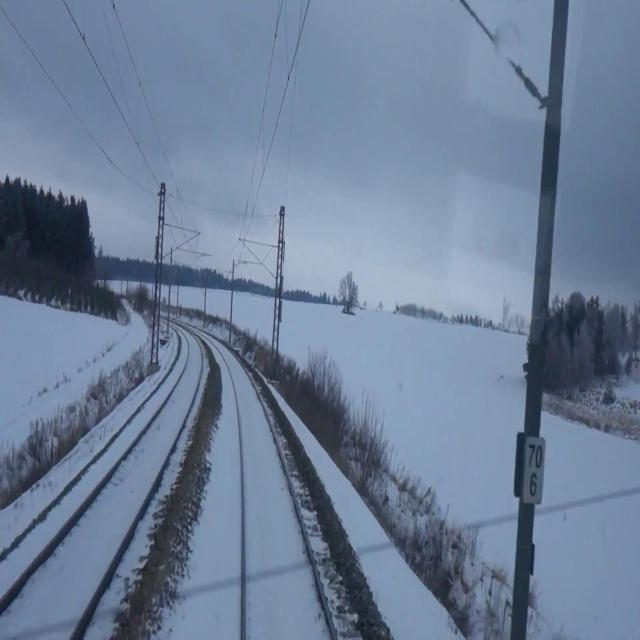rail-track: (0, 331, 200, 639), (214, 341, 333, 639)
